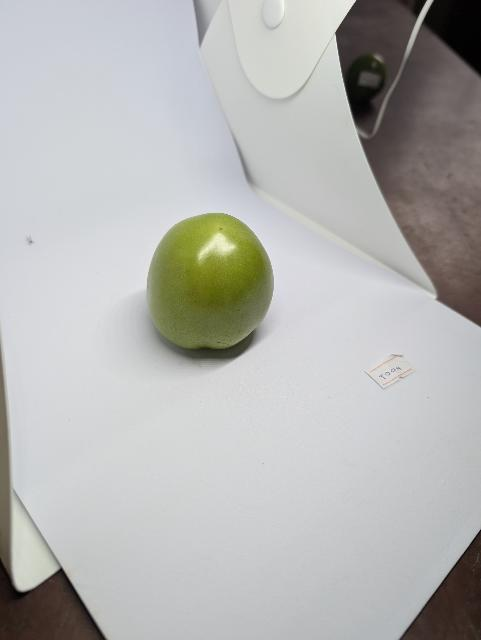green: (143, 211, 277, 352)
